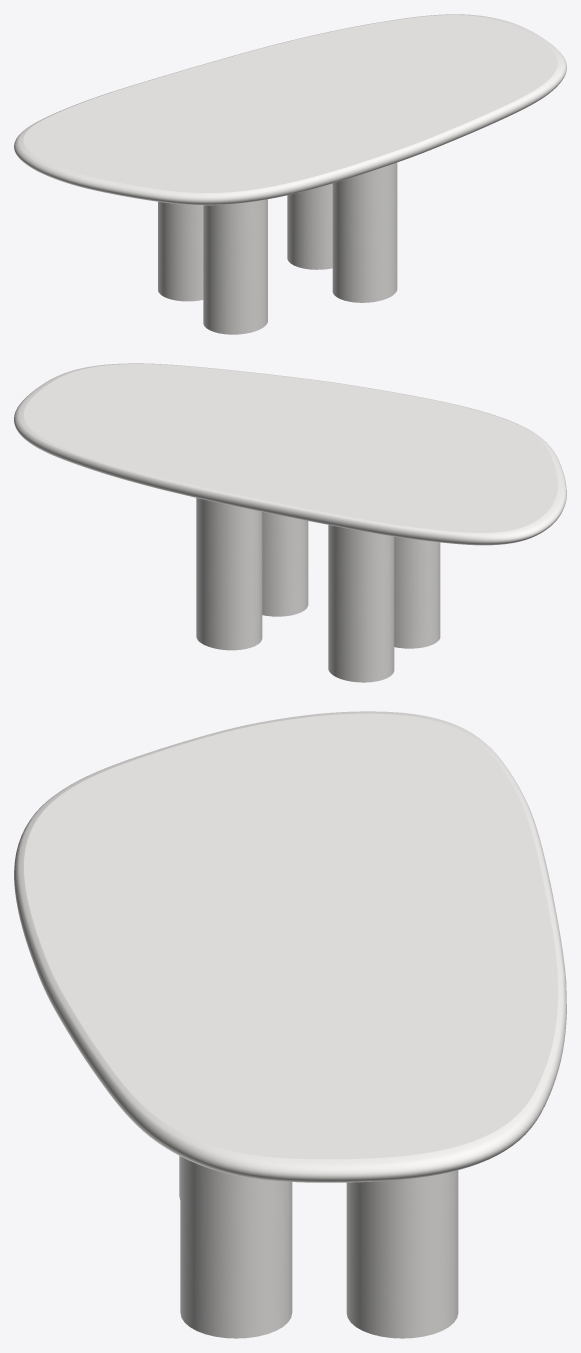
Rendered from purewhite_leaf2_round_grove.glb.
3 views of the same model, one above another, from view 1: azimuth 30°, elevation 25°; view 2: azimuth 150°, elevation 25°; view 3: azimuth 270°, elevation 25° (orthographic). The views are drawn at different scales.
Visible parts, largest first — view 1: round_leaf2, grove; view 2: round_leaf2, grove; view 3: round_leaf2, grove.
Boxes of the visible parts, bbox=[...] form: round_leaf2: bbox=[14, 14, 566, 205]; grove: bbox=[158, 162, 397, 334]; round_leaf2: bbox=[14, 363, 566, 545]; grove: bbox=[196, 498, 440, 682]; round_leaf2: bbox=[14, 711, 566, 1182]; grove: bbox=[179, 1156, 458, 1338].
Size of the model in its own units: 7.5 by 2.53 by 3.8.
Materials: 1 (1 with a texture image).
